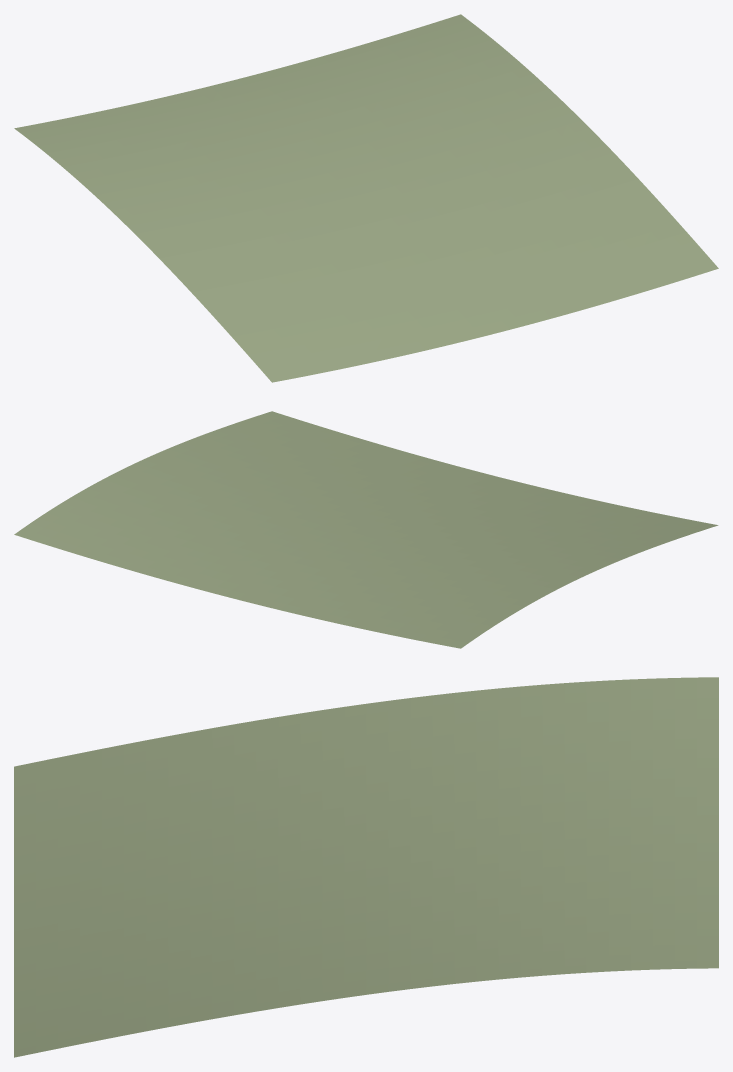
The model's file is valley-4-1.glb.
3 renders of one model, top to bottom at view 1: azimuth 30°, elevation 25°; view 2: azimuth 150°, elevation 25°; view 3: azimuth 270°, elevation 25°, orthographic. The views are drawn at different scales.
Parts seen in each view (by area): view 1: valley-4-1; view 2: valley-4-1; view 3: valley-4-1.
Boxes of the visible parts, x1,y1,x2,y2 form: valley-4-1: (14,14,718,382); valley-4-1: (14,411,718,648); valley-4-1: (14,677,718,1057).
Size of the model in its own units: 256 by 41.62 by 256.
